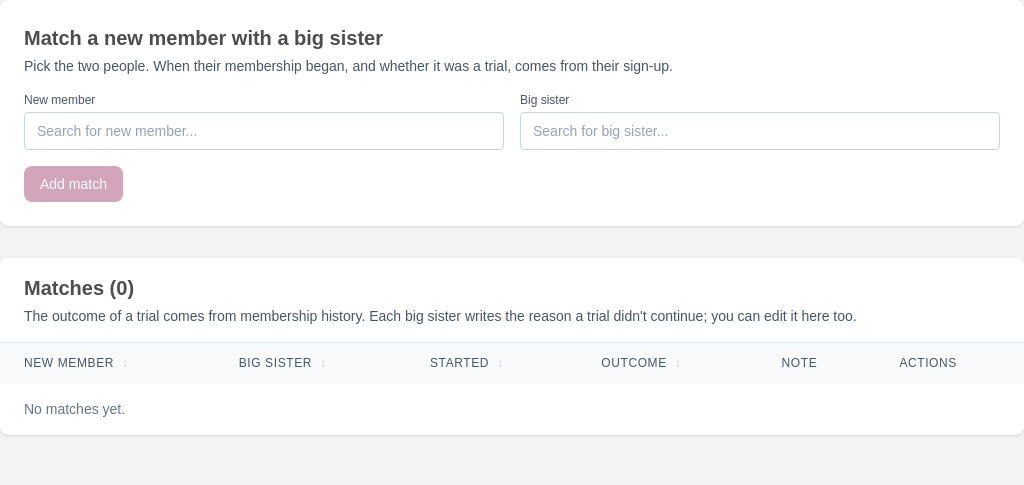
Test: MatchesPanel › warns when the chosen big sister already has a new member inside their 30 days
Type "Ada" into the dropdown with placeholder "Search for big sister..." at (760, 131), box [520, 112, 1000, 150]
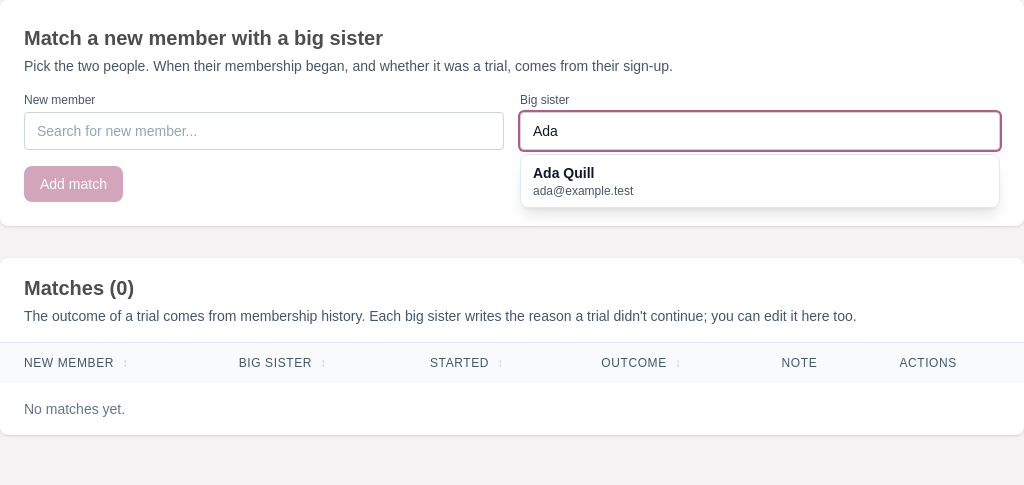
Click the text "Ada Quill" at (564, 173), box [533, 165, 594, 181]
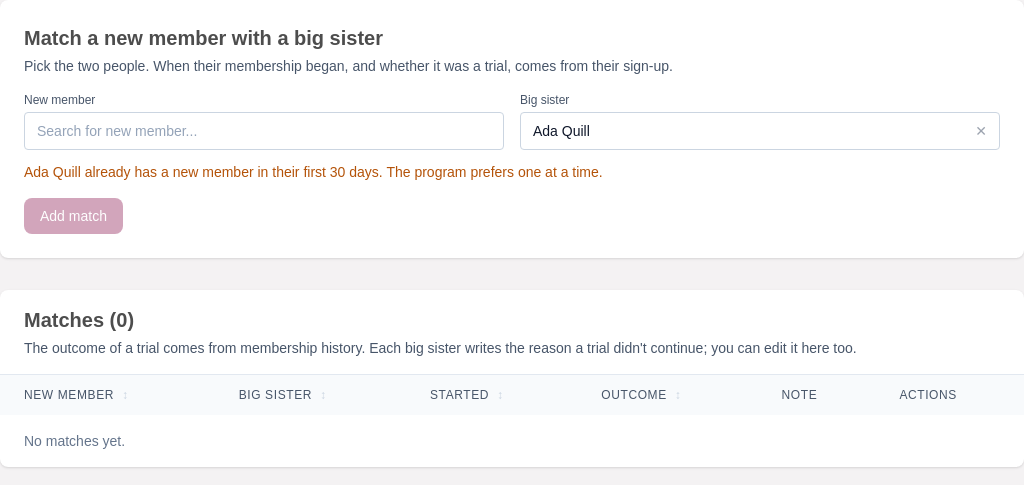
Expected: the text "already has a new member in their first 30 days" is shown, [24, 164, 603, 180]
